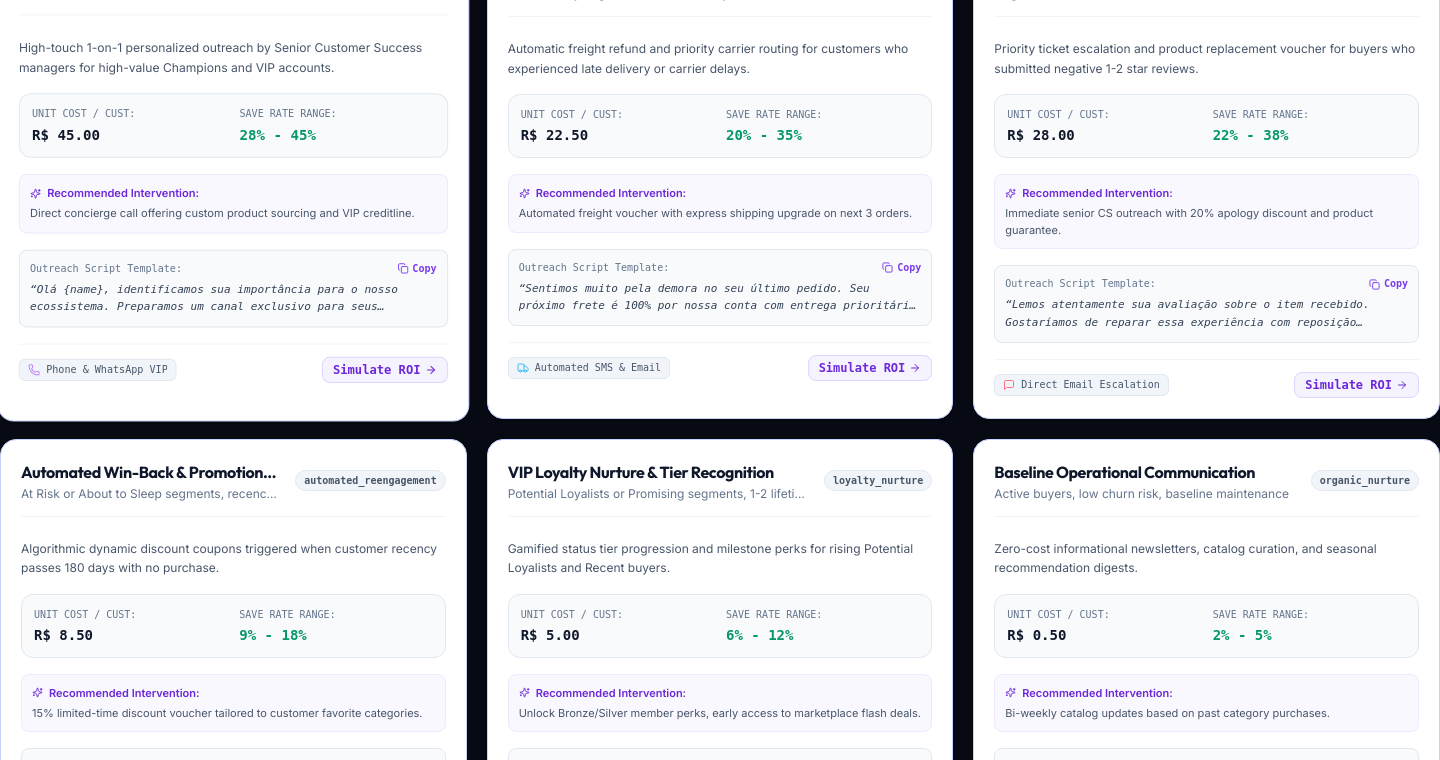
Test: RetentionPlannerView Component › clicking Simulate ROI on a playbook card selects it in the Campaign ROI Simulator
(page scrolled)
Click the button "Simulate ROI" next to "Phone & WhatsApp VIP": (385, 370) [322, 357, 448, 383]
(page scrolled)
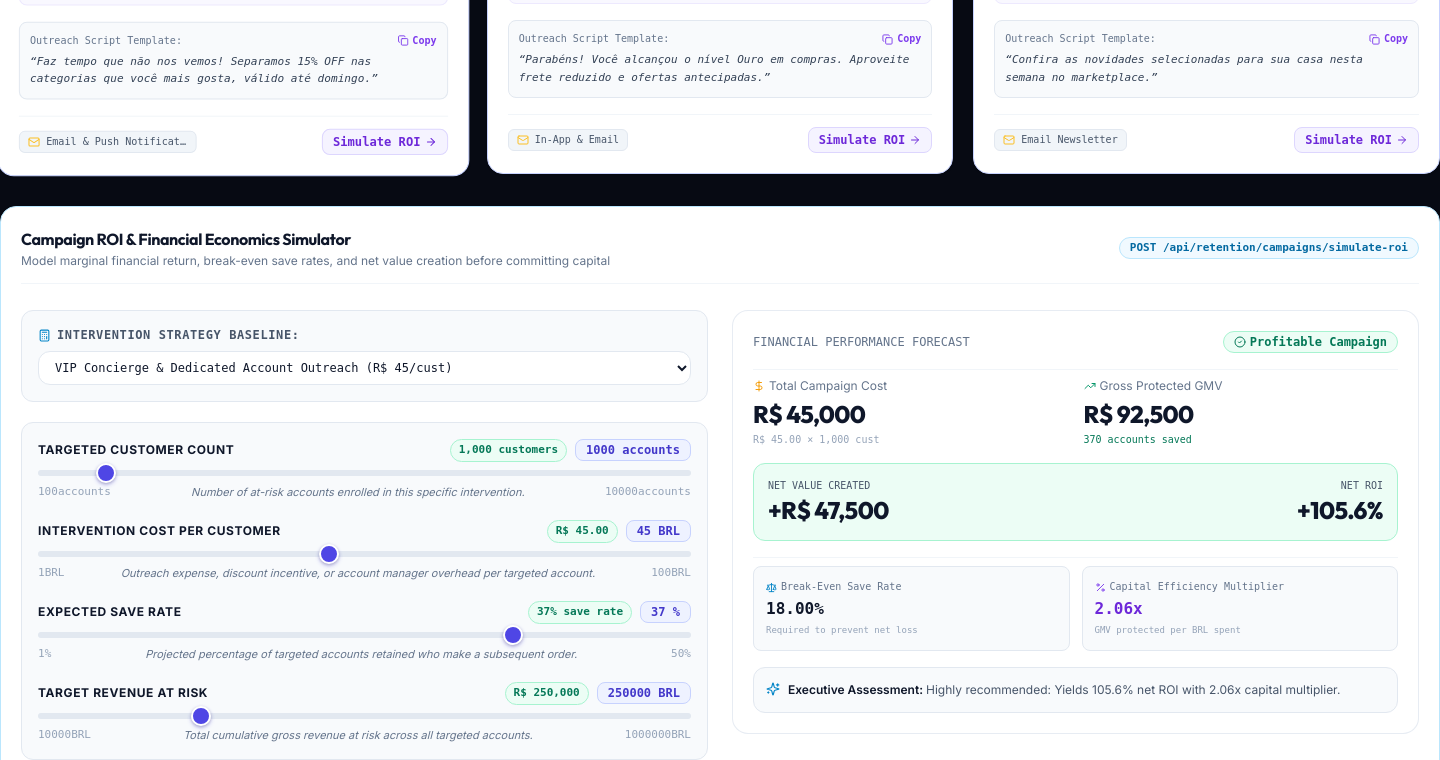
Expected: the dropdown shows "VIP Concierge & Dedicated Account Outreach (R$ 45/cust)", [38, 351, 691, 385]
